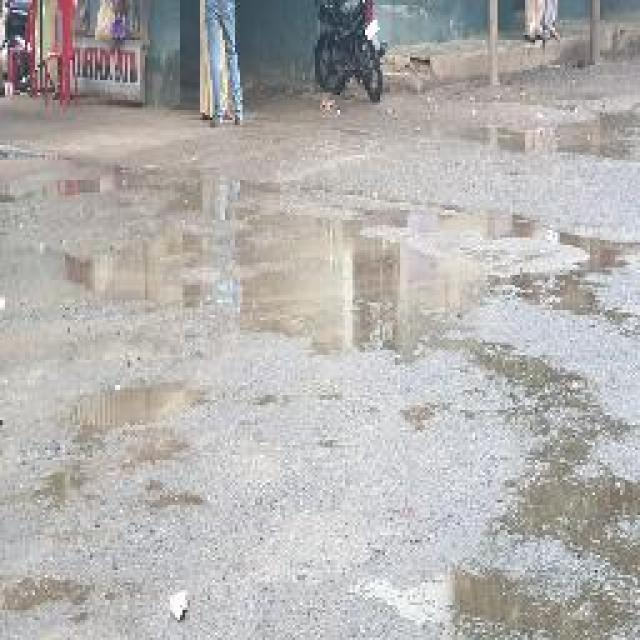waterlogging: (118, 148, 586, 386), (493, 438, 640, 556), (408, 562, 600, 640)
